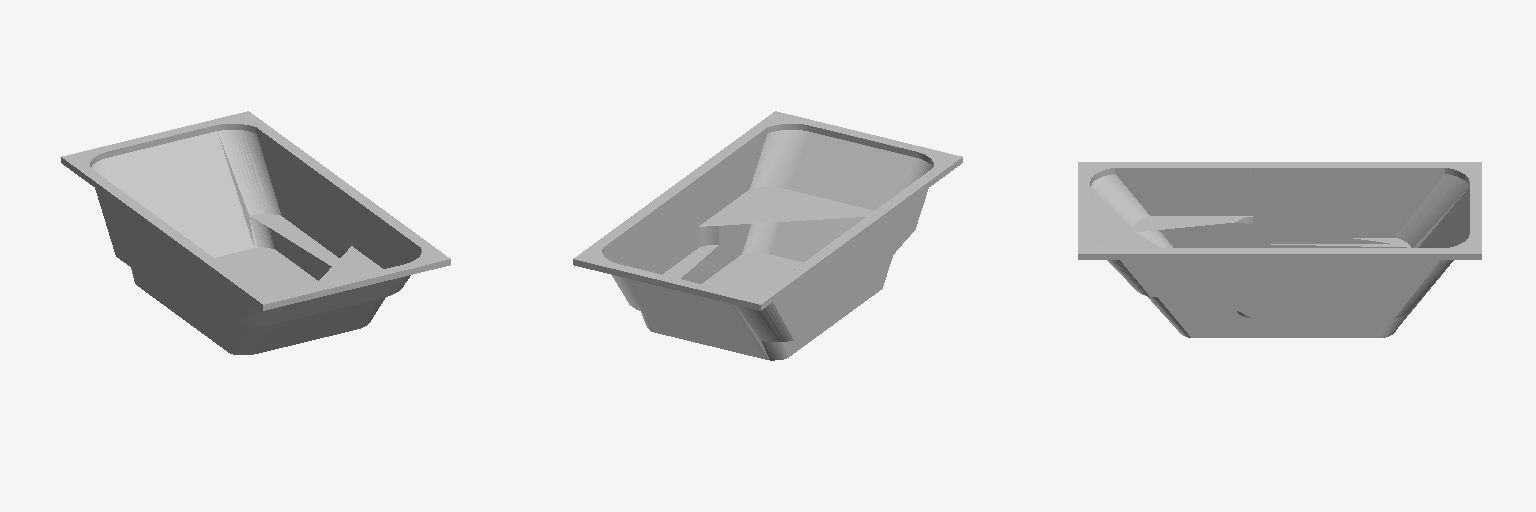
The model's file is AJNA_BLANCA.obj.
3 renders of one model, left to right at view 1: azimuth 30°, elevation 25°; view 2: azimuth 150°, elevation 25°; view 3: azimuth 270°, elevation 25°, orthographic.
Visible parts, largest first — view 1: Mesh1 Group1 Model; view 2: Mesh1 Group1 Model; view 3: Mesh1 Group1 Model.
Part boxes in pixels (bbox=[...]): Mesh1 Group1 Model: bbox=[61, 111, 450, 354]; Mesh1 Group1 Model: bbox=[573, 111, 962, 360]; Mesh1 Group1 Model: bbox=[1078, 162, 1481, 337].
Bounding box in the file's own units: 90 × 44 × 168.